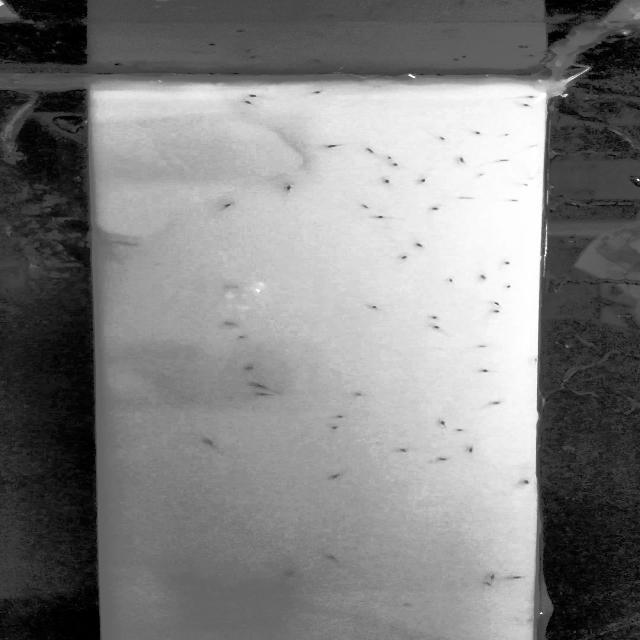shrimp: (481, 158, 516, 166), (502, 93, 539, 100), (464, 126, 487, 137), (323, 552, 343, 564), (372, 215, 406, 222), (324, 471, 344, 482), (249, 380, 273, 389), (306, 87, 330, 96), (278, 567, 294, 580), (201, 437, 218, 449), (433, 325, 450, 335), (453, 156, 467, 168), (516, 102, 536, 110), (393, 447, 415, 454), (464, 445, 478, 456), (379, 175, 394, 185), (453, 194, 474, 201), (250, 392, 274, 398), (430, 202, 442, 214), (498, 197, 522, 203), (360, 202, 374, 212), (329, 413, 352, 419), (324, 144, 350, 149), (432, 134, 448, 142), (326, 424, 344, 431), (414, 241, 428, 250), (498, 261, 516, 268), (488, 573, 503, 581), (243, 363, 258, 371), (282, 183, 297, 191), (360, 146, 375, 154), (486, 399, 503, 406), (353, 392, 369, 399), (476, 366, 490, 374), (478, 273, 492, 281), (508, 574, 526, 580), (481, 582, 498, 588), (498, 284, 515, 290), (386, 162, 403, 168), (512, 180, 532, 185), (432, 422, 448, 428), (432, 457, 456, 461), (369, 303, 382, 310), (487, 301, 505, 306), (223, 202, 238, 208), (498, 132, 516, 137), (474, 171, 484, 180), (247, 93, 262, 99), (243, 100, 257, 106), (425, 312, 435, 320), (418, 176, 428, 184), (519, 477, 530, 484), (451, 429, 469, 433), (470, 346, 490, 349), (490, 310, 505, 314), (397, 255, 412, 259), (384, 154, 393, 160), (448, 277, 455, 283)
